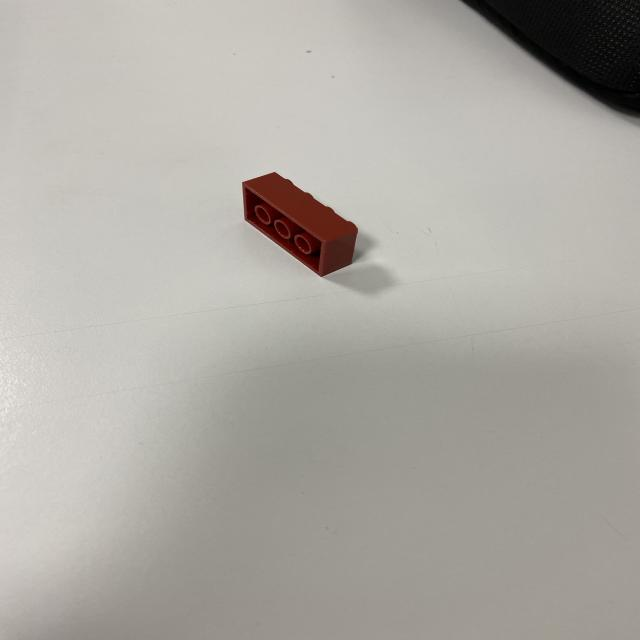C4x2x1: (242, 183, 335, 272), (248, 168, 358, 239), (329, 232, 362, 275)
